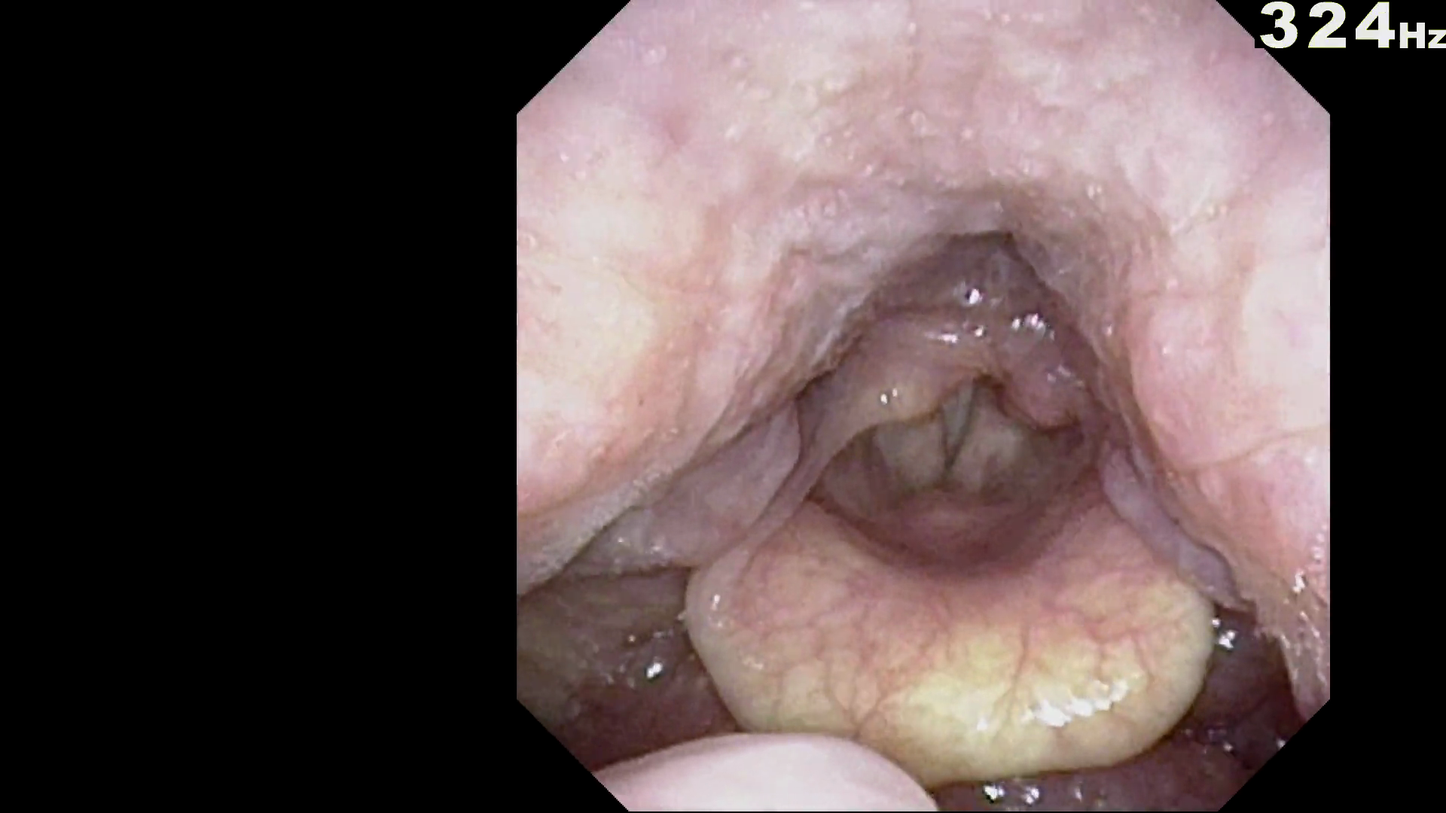epiglottis: (663, 516, 1251, 762)
trachea: (872, 346, 1039, 535)
